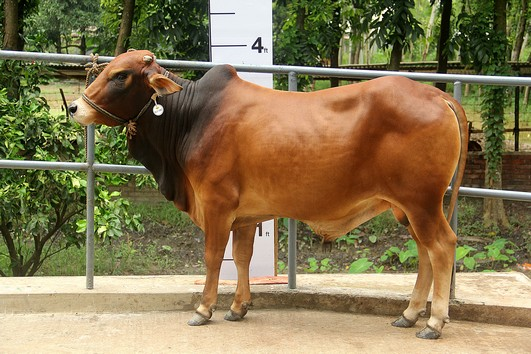cow: (59, 40, 470, 338)
